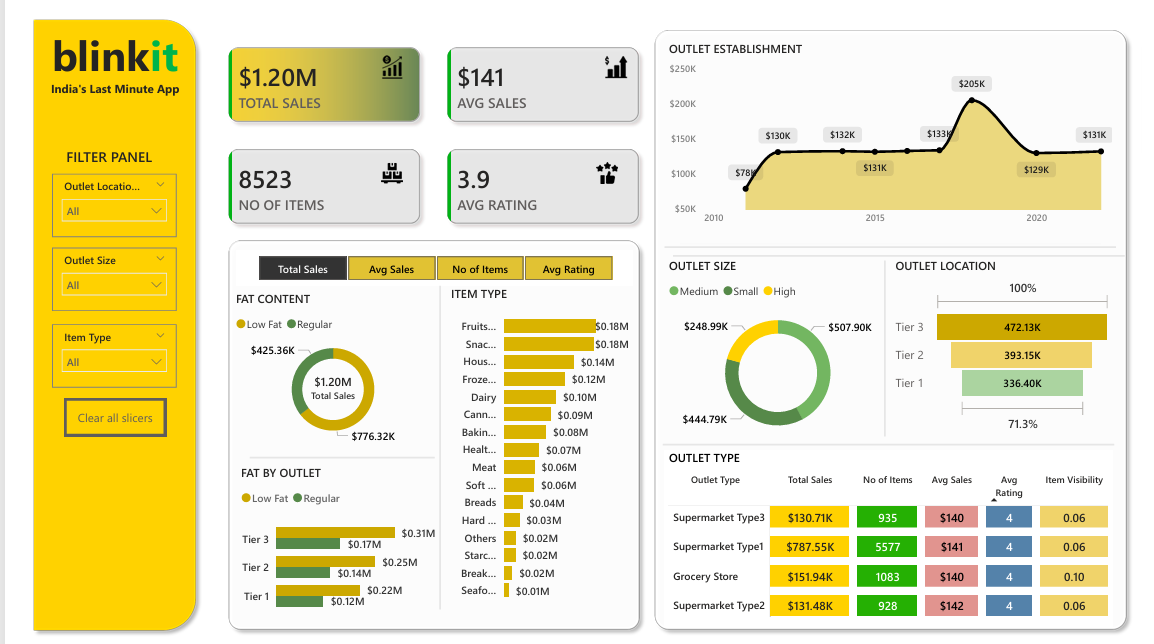

The dashboard page shown, as its layout file describes it:
{"tool":"powerbi","page":{"name":"Page 1","canvas":[1280,720],"ordinal":0},"visuals":[{"type":"shape","box":[0,0,204,720],"z":0},{"type":"textbox","box":[0,11.4,204.3,77.1],"z":1000},{"type":"textbox","box":[15.7,74.3,172.9,30],"z":2000},{"type":"cardVisual","fields":{"Data":["BlinkIT Grocery Data.Total Sales","BlinkIT Grocery Data.Avg Sales","BlinkIT Grocery Data.No of Items","BlinkIT Grocery Data.Avg Rating"]},"box":[204.4,12.1,528.5,262],"z":3000},{"type":"textbox","box":[670.8,675.3,60.6,43.9],"z":4000},{"type":"image","box":[386.1,50,68.1,27.3],"z":5000},{"type":"image","box":[655.7,50,42.4,27.3],"z":6000},{"type":"image","box":[637.5,172.6,60.6,25.7],"z":7000},{"type":"image","box":[386.1,172.6,68.1,25.7],"z":8000},{"type":"shape","box":[224.1,254.4,489.1,464.9],"z":9000},{"type":"donutChart","title":"FAT CONTENT","fields":{"Y":["BlinkIT Grocery Data.Total Sales"],"Category":["BlinkIT Grocery Data.Item Fat Content"]},"box":[236.2,321,233.2,180.2],"z":10000},{"type":"slicer","fields":{"Values":["Metrics.Metrics"]},"box":[242.3,274.1,454.3,40.9],"z":11000},{"type":"cardVisual","fields":{"Data":["BlinkIT Grocery Data.Total Sales"]},"box":[298.3,399.8,109,63.6],"z":12000},{"type":"clusteredBarChart","title":"FAT BY OUTLET","fields":{"Y":["BlinkIT Grocery Data.Total Sales"],"Category":["BlinkIT Grocery Data.Outlet Location Type"],"Series":["BlinkIT Grocery Data.Item Fat Content"]},"box":[242.3,520.9,233.2,183.2],"z":13000},{"type":"shape","box":[751,258.9,483,15.1],"z":14000},{"type":"shape","box":[469.4,315,12.1,372.5],"z":15000},{"type":"barChart","title":"ITEM TYPE","fields":{"Y":["BlinkIT Grocery Data.Total Sales"],"Category":["BlinkIT Grocery Data.Item Type"]},"box":[483,315,213.5,372.5],"z":16000},{"type":"shape","box":[713.2,12.1,558.7,707.1],"z":17000},{"type":"lineChart","title":"OUTLET ESTABLISHMENT","fields":{"Category":["BlinkIT Grocery Data.Outlet Establishment Year"],"Y":["BlinkIT Grocery Data.Total Sales"]},"box":[732.9,33.3,517.9,221.1],"z":18000},{"type":"shape","box":[256.8,505.1,212,15.1],"z":19000},{"type":"shape","box":[732.9,266.5,517.9,7.6],"z":20000},{"type":"donutChart","title":"OUTLET SIZE","fields":{"Y":["BlinkIT Grocery Data.Total Sales"],"Category":["BlinkIT Grocery Data.Outlet Size"]},"box":[732.9,283.2,260.4,218],"z":21000},{"type":"shape","box":[979.7,286.2,12.1,201.4],"z":22000},{"type":"funnel","title":"OUTLET LOCATION","fields":{"Category":["BlinkIT Grocery Data.Outlet Location Type"],"Y":["Sum(BlinkIT Grocery Data.Sales)"]},"box":[993.3,283.2,257.4,204.4],"z":23000},{"type":"shape","box":[731.4,493.6,517.9,7.6],"z":24000},{"type":"pivotTable","title":"OUTLET TYPE","fields":{"Values":["BlinkIT Grocery Data.Total Sales","BlinkIT Grocery Data.No of Items","BlinkIT Grocery Data.Avg Sales","BlinkIT Grocery Data.Avg Rating","Avg(BlinkIT Grocery Data.Item Visibility)"],"Rows":["BlinkIT Grocery Data.Outlet Type"]},"box":[732.9,504.2,514.8,202.9],"z":25000},{"type":"slicer","fields":{"Values":["BlinkIT Grocery Data.Outlet Location Type"]},"box":[30.3,186.2,142.3,72.7],"z":26000},{"type":"shape","box":[742.9,276.5,517.9,7.6],"z":27000},{"type":"slicer","fields":{"Values":["BlinkIT Grocery Data.Outlet Size"]},"box":[30.3,271,142.3,72.7],"z":28000},{"type":"slicer","fields":{"Values":["BlinkIT Grocery Data.Item Type"]},"box":[30.3,358.9,142.3,72.7],"z":29000},{"type":"textbox","box":[30.3,151.4,130.2,42.4],"z":30000},{"type":"actionButton","box":[43.9,443.7,116.6,43.9],"z":31000}]}

Visuals, with their boxes in screenshot pixels (x1, y1, x2, y2), scaled from the page's 1280x720 canvas onto the 1154x644 screenshot:
shape: <bbox>0, 0, 184, 643</bbox>
textbox: <bbox>0, 10, 184, 79</bbox>
textbox: <bbox>14, 66, 170, 93</bbox>
cardVisual - BlinkIT Grocery Data.Total Sales x BlinkIT Grocery Data.Avg Sales: <bbox>184, 11, 661, 245</bbox>
textbox: <bbox>605, 604, 659, 643</bbox>
image: <bbox>348, 45, 409, 69</bbox>
image: <bbox>591, 45, 629, 69</bbox>
image: <bbox>575, 154, 629, 177</bbox>
image: <bbox>348, 154, 409, 177</bbox>
shape: <bbox>202, 228, 643, 643</bbox>
"FAT CONTENT" donutChart: <bbox>213, 287, 423, 448</bbox>
slicer - Metrics.Metrics: <bbox>218, 245, 628, 282</bbox>
cardVisual - BlinkIT Grocery Data.Total Sales: <bbox>269, 358, 367, 414</bbox>
"FAT BY OUTLET" clusteredBarChart: <bbox>218, 466, 429, 630</bbox>
shape: <bbox>677, 232, 1113, 245</bbox>
shape: <bbox>423, 282, 434, 615</bbox>
"ITEM TYPE" barChart: <bbox>435, 282, 628, 615</bbox>
shape: <bbox>643, 11, 1147, 643</bbox>
"OUTLET ESTABLISHMENT" lineChart: <bbox>661, 30, 1128, 228</bbox>
shape: <bbox>232, 452, 423, 465</bbox>
shape: <bbox>661, 238, 1128, 245</bbox>
"OUTLET SIZE" donutChart: <bbox>661, 253, 896, 448</bbox>
shape: <bbox>883, 256, 894, 436</bbox>
"OUTLET LOCATION" funnel: <bbox>896, 253, 1128, 436</bbox>
shape: <bbox>659, 441, 1126, 448</bbox>
"OUTLET TYPE" pivotTable: <bbox>661, 451, 1125, 632</bbox>
slicer - BlinkIT Grocery Data.Outlet Location Type: <bbox>27, 167, 156, 232</bbox>
shape: <bbox>670, 247, 1137, 254</bbox>
slicer - BlinkIT Grocery Data.Outlet Size: <bbox>27, 242, 156, 307</bbox>
slicer - BlinkIT Grocery Data.Item Type: <bbox>27, 321, 156, 386</bbox>
textbox: <bbox>27, 135, 145, 173</bbox>
actionButton: <bbox>40, 397, 145, 436</bbox>
